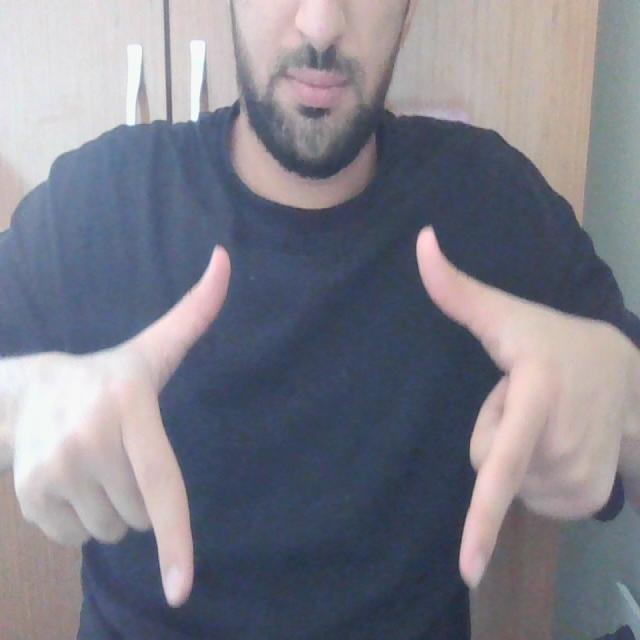Nerede: (120, 213, 556, 612)
